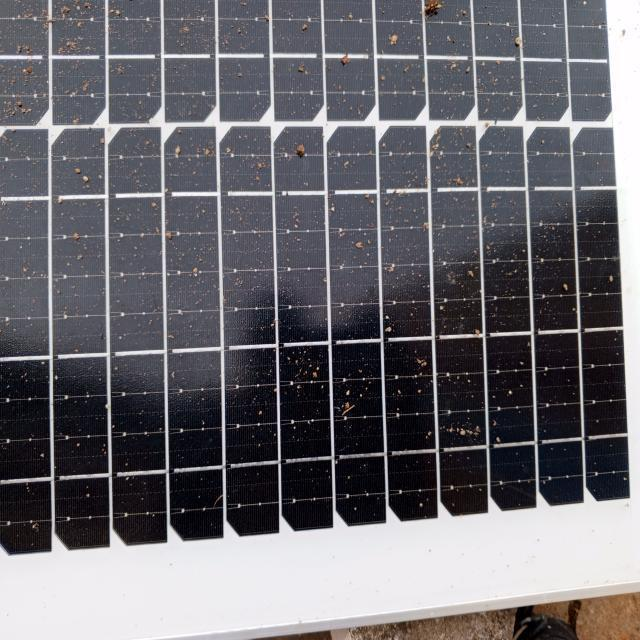Anomaly Solar Panel: (5, 76, 626, 552)
Surface Contaminant: (5, 76, 626, 552)
